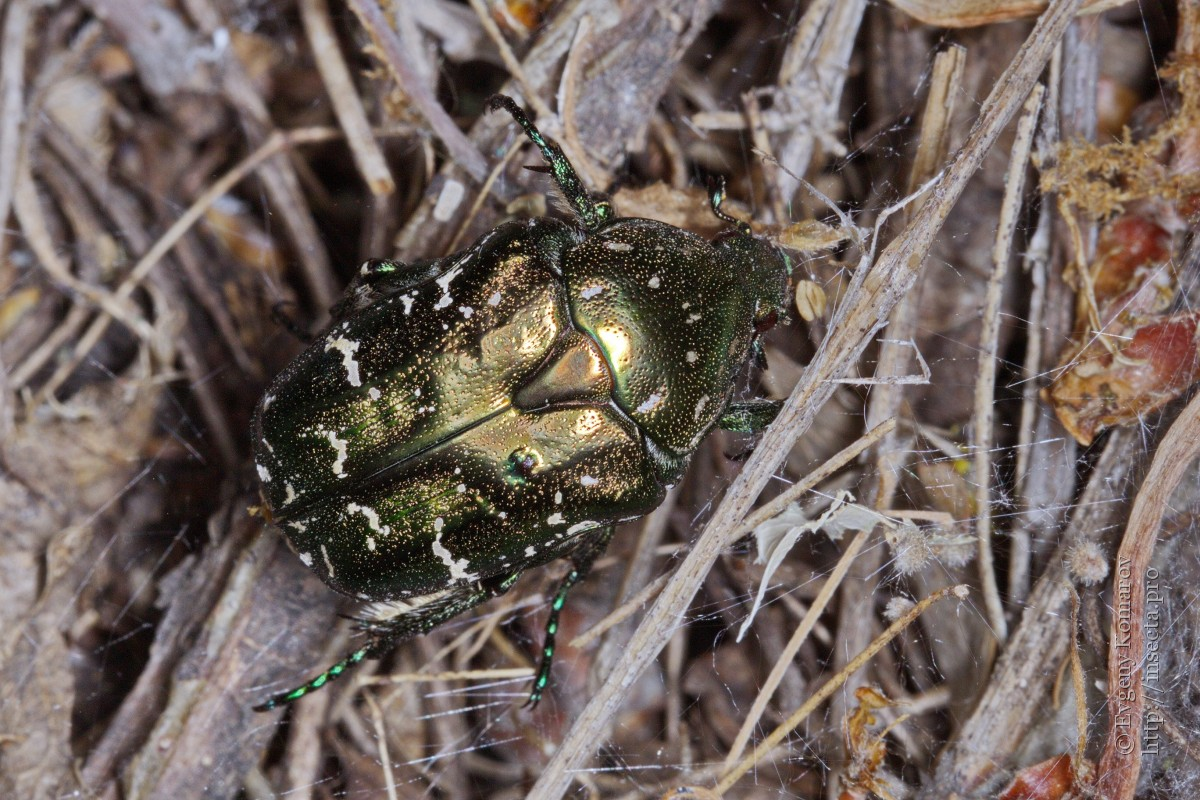Protaetia_cuprina_cuprina: (241, 80, 809, 744)
